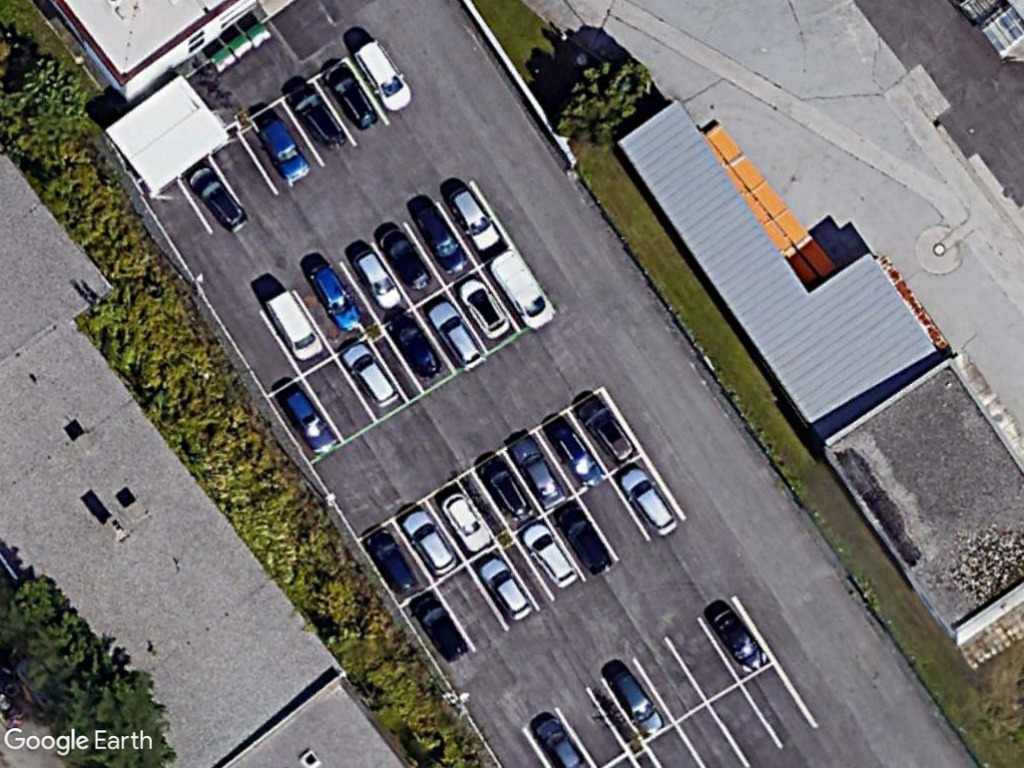car: (707, 597, 770, 678), (552, 500, 616, 579), (351, 36, 415, 114), (615, 463, 679, 541), (573, 394, 642, 465), (502, 429, 565, 506), (455, 266, 516, 344), (410, 586, 470, 665), (185, 163, 251, 234), (359, 523, 421, 598), (424, 291, 485, 367), (383, 309, 446, 382), (414, 200, 473, 277), (288, 79, 350, 152), (255, 112, 313, 189), (472, 456, 536, 525), (307, 259, 366, 333), (318, 56, 376, 131), (607, 663, 666, 736), (443, 183, 504, 253), (375, 222, 436, 292), (340, 339, 400, 409), (281, 387, 340, 458), (477, 554, 536, 624), (398, 508, 458, 576), (436, 487, 494, 557), (519, 522, 578, 590), (546, 417, 601, 489), (351, 247, 406, 314), (528, 712, 589, 768)
van: (486, 252, 557, 332), (259, 287, 325, 364)
